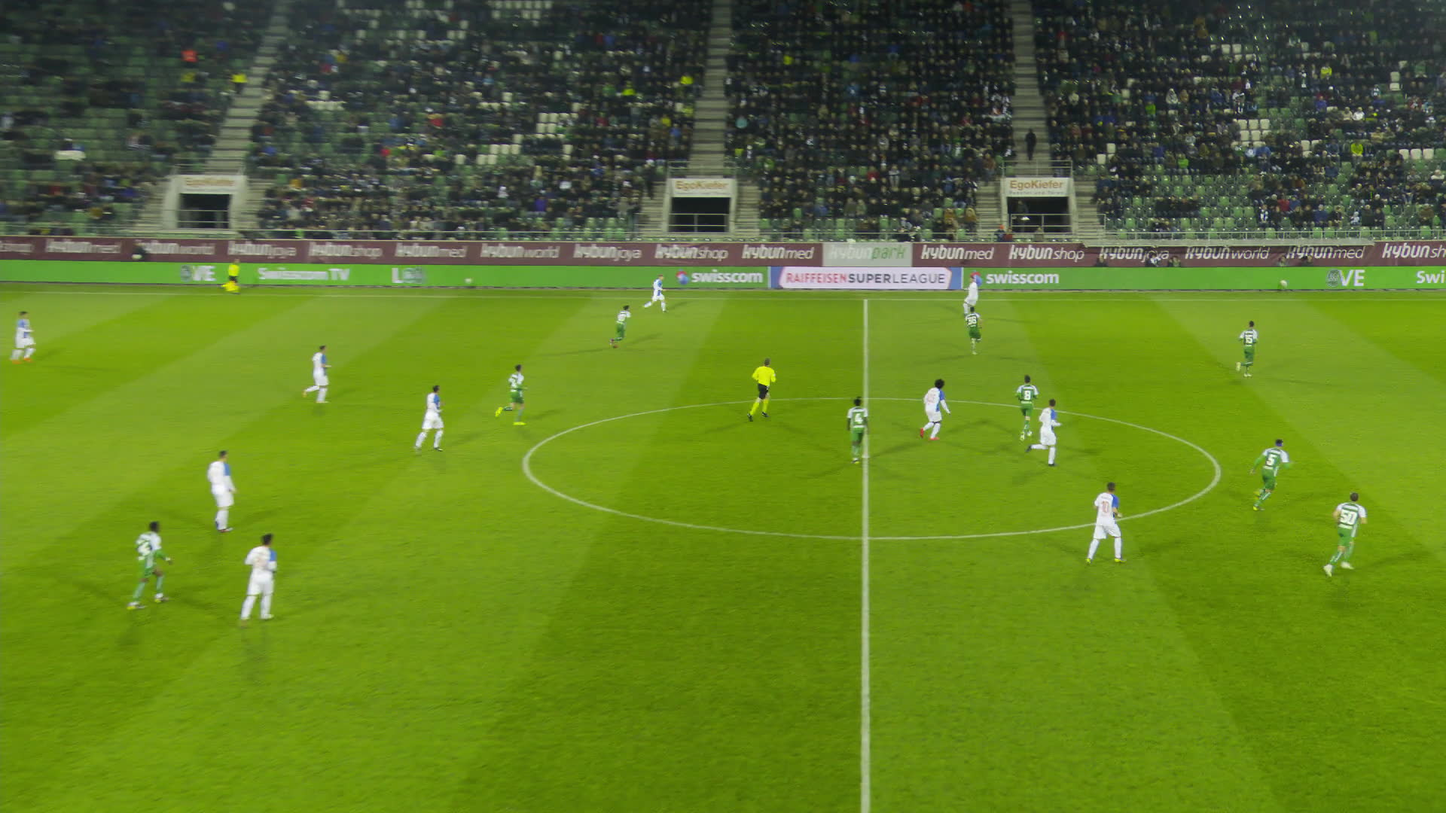ball: (842, 236, 848, 240)
player: (247, 534, 288, 623), (138, 518, 180, 604), (1320, 493, 1365, 571), (1242, 435, 1288, 509), (1084, 480, 1122, 564), (215, 449, 248, 530), (1028, 398, 1062, 465), (416, 387, 450, 449), (502, 364, 535, 425), (919, 376, 949, 440), (850, 394, 874, 462), (313, 343, 340, 403), (8, 310, 35, 363), (1235, 319, 1258, 377), (612, 303, 639, 349), (1018, 376, 1039, 433), (966, 306, 984, 353), (648, 276, 667, 313), (966, 276, 981, 316)
referee: (748, 358, 779, 417), (233, 257, 247, 293)
